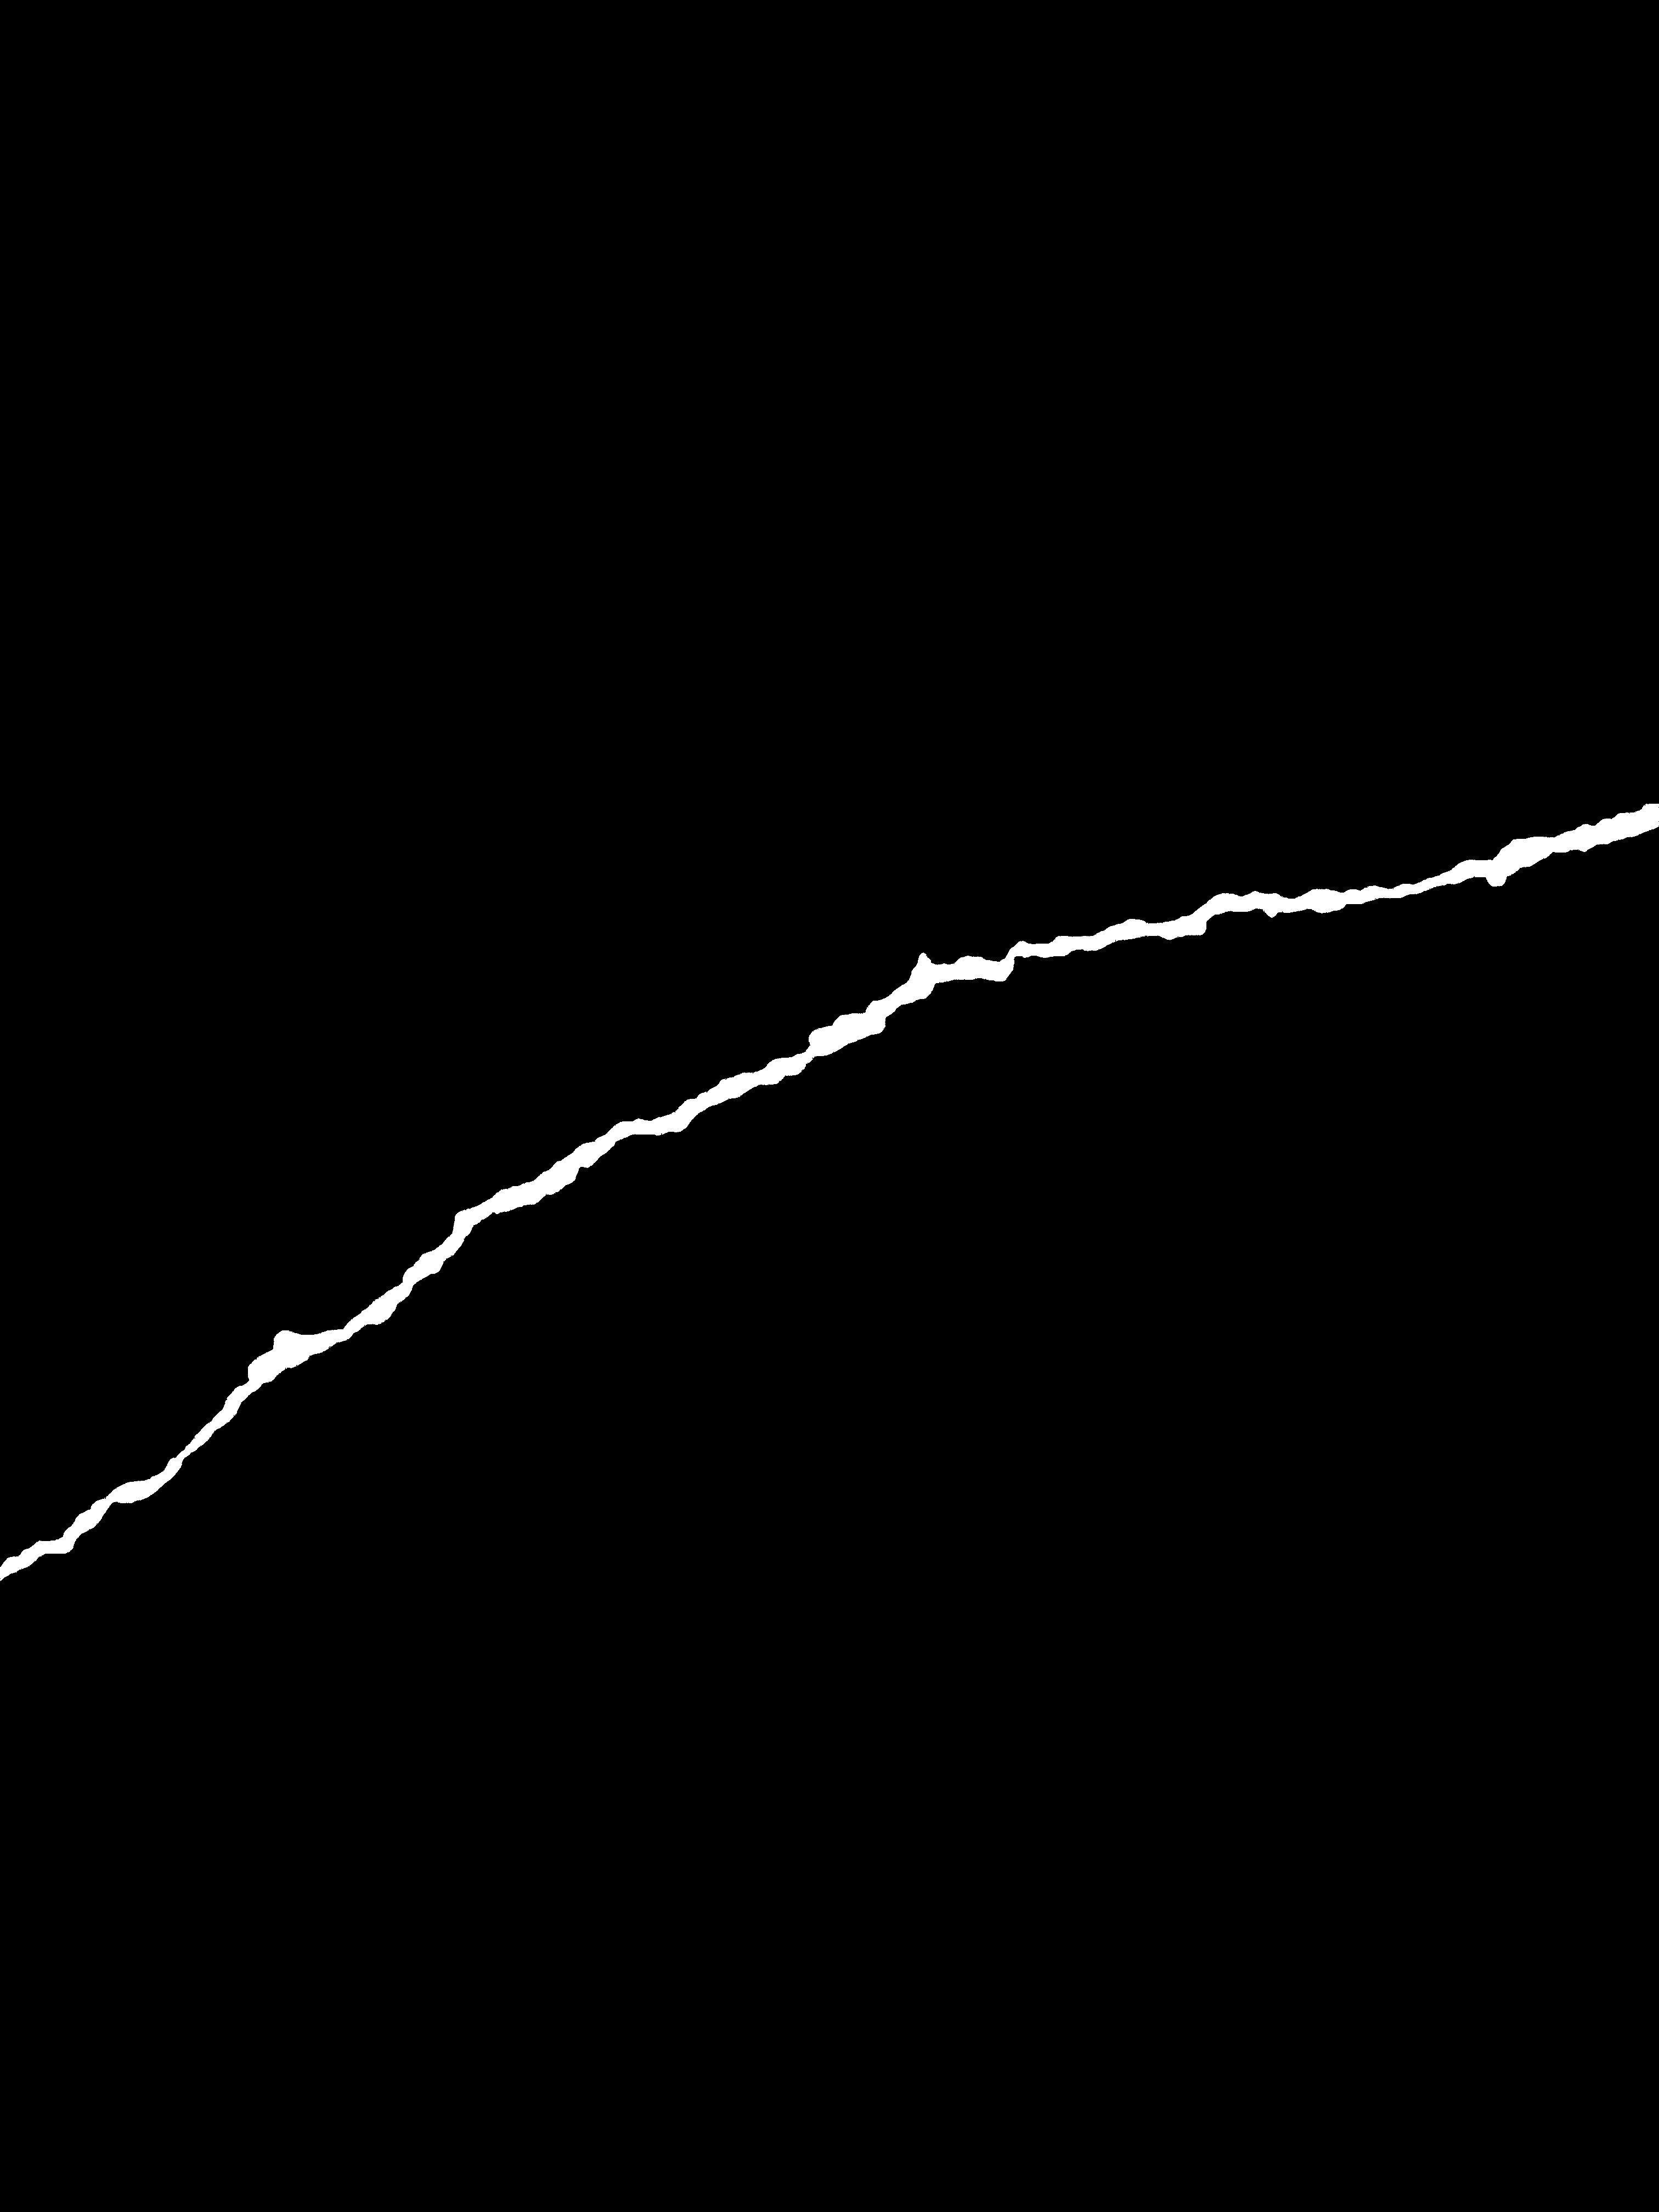Crack: (0, 759, 1659, 1615)
